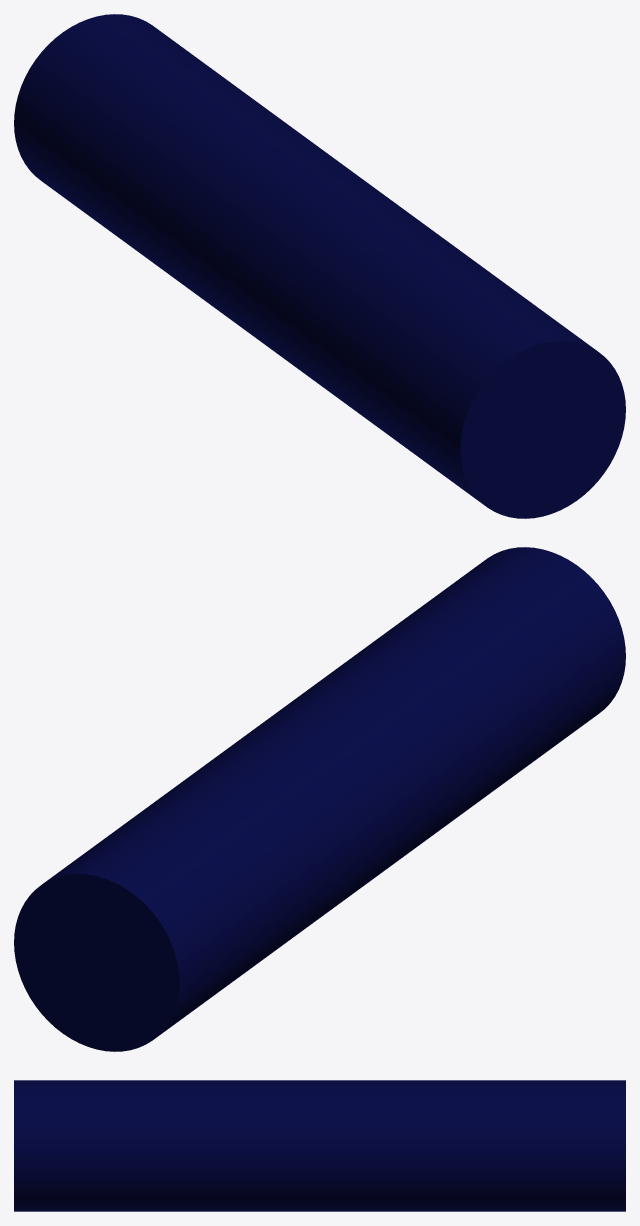
The model's file is ripstick.obj.
3 renders of one model, top to bottom at view 1: azimuth 30°, elevation 25°; view 2: azimuth 150°, elevation 25°; view 3: azimuth 270°, elevation 25°, orthographic. The views are drawn at different scales.
Visible parts, largest first — view 1: Circle.001; view 2: Circle.001; view 3: Circle.001.
Part boxes in pixels (x1,y1,x2,y2): Circle.001: [14, 14, 625, 518]; Circle.001: [14, 547, 625, 1051]; Circle.001: [14, 1080, 625, 1211].
Size of the model in its own units: 15 by 15 by 70.
